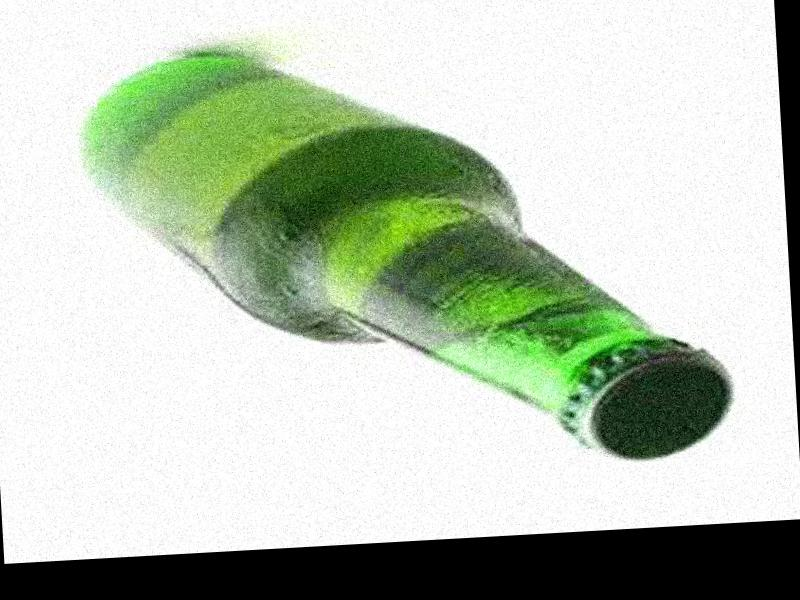Beer: (73, 22, 736, 488)
